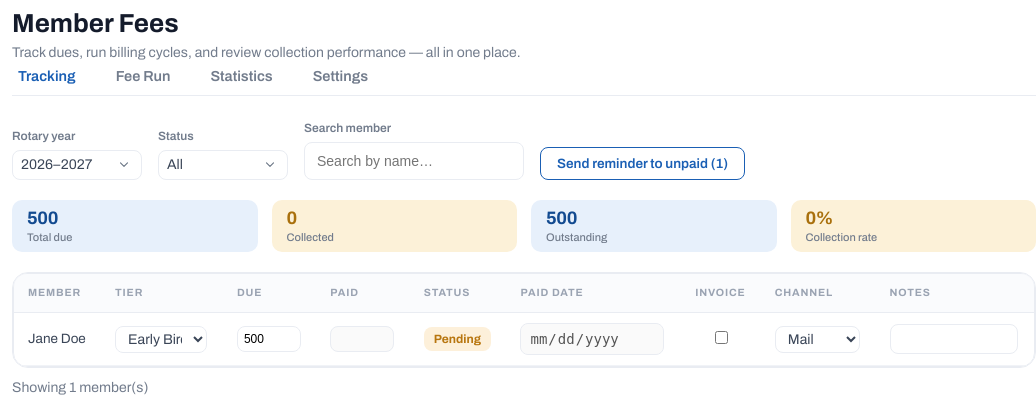
Test: MemberFees › Tracking tab › marks a fee as paid via the status chip and defaults amount paid to amount due
What coordinates should you click on to do the following:
click the button with aria-label "mark jane doe paid"
I would click on:
 (457, 339)
Its box is [424,327,491,351].
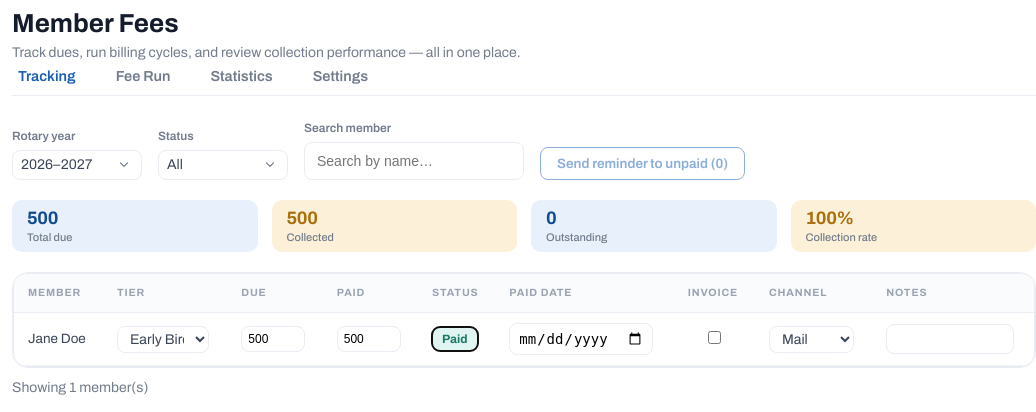
Now the button with aria-label "mark jane doe paid" reads "Paid", box [432,327,478,351]
Now the number field named "amount paid by jane doe" holds "500", box [337,326,401,352]
